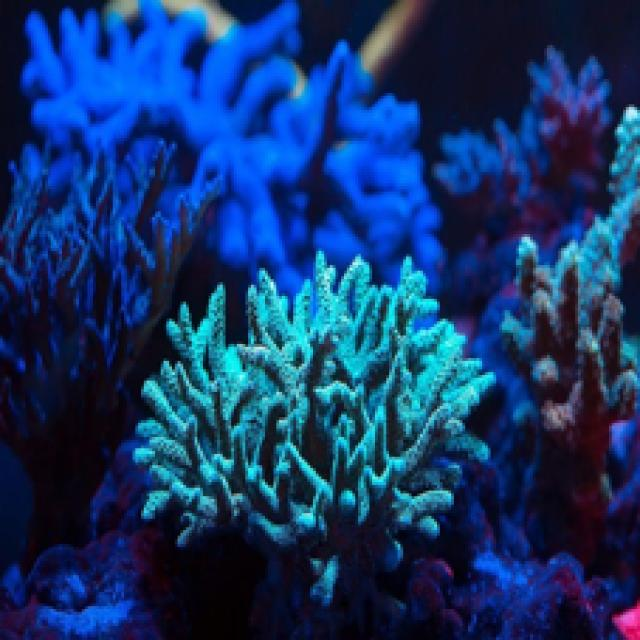Healthy: (139, 255, 492, 579), (1, 142, 215, 540), (503, 142, 635, 559)
